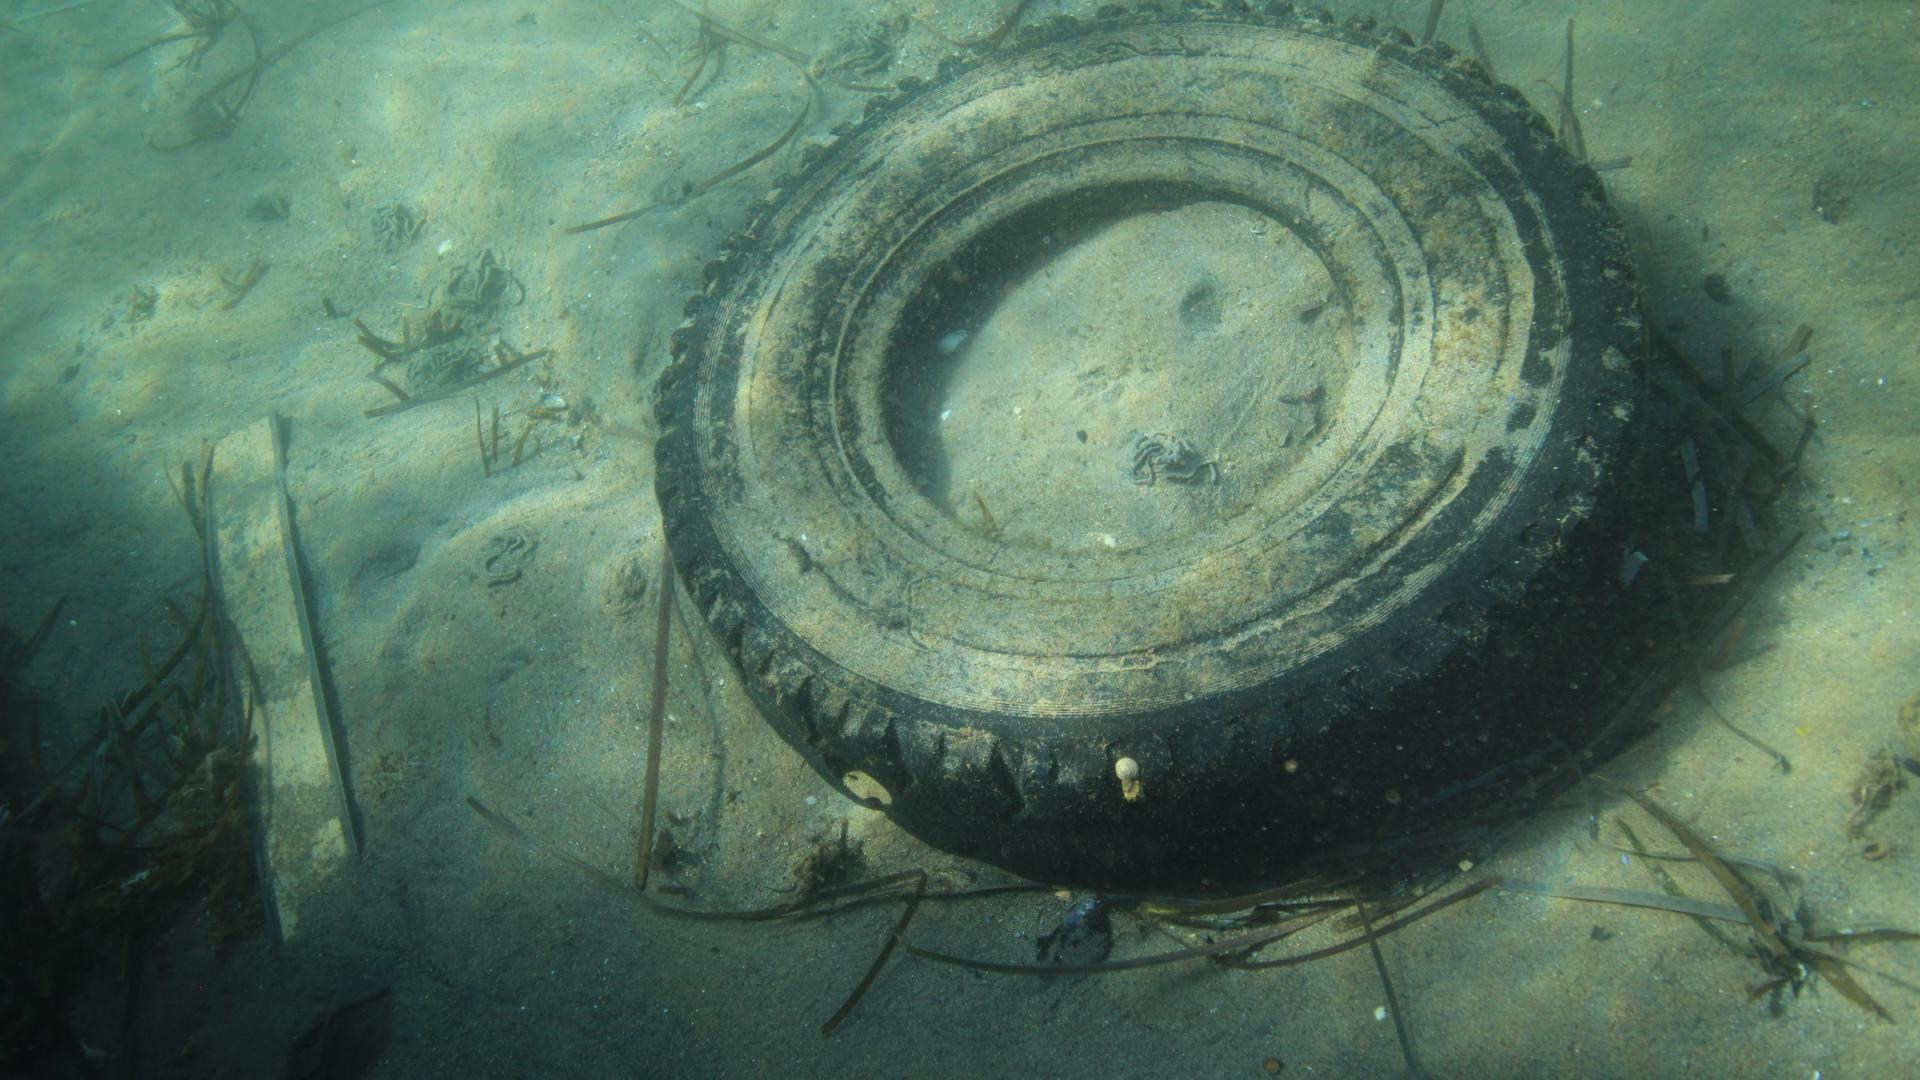tire: (651, 0, 1651, 890)
